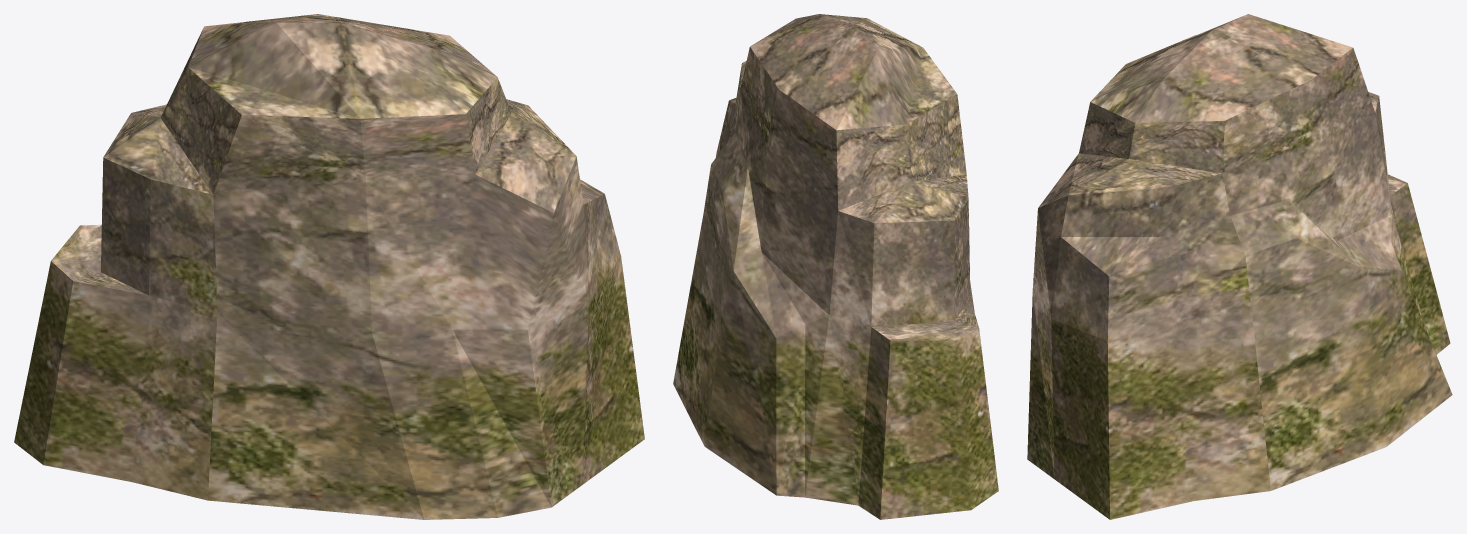
Rendered from town_mountain_a__11___1_12.fbx.
The picture shows the model from 3 angles, left to right: view 1: azimuth 30°, elevation 25°; view 2: azimuth 150°, elevation 25°; view 3: azimuth 270°, elevation 25°; orthographic projection. The views are drawn at different scales.
Parts seen in each view (by area): view 1: town_mountain_a__11___1_12; view 2: town_mountain_a__11___1_12; view 3: town_mountain_a__11___1_12.
Part boxes in pixels (x1,y1,x2,y2): town_mountain_a__11___1_12: [14, 14, 644, 519]; town_mountain_a__11___1_12: [673, 14, 998, 519]; town_mountain_a__11___1_12: [1027, 14, 1452, 519].
Size of the model in its own units: 36.22 by 31.4 by 31.56.
